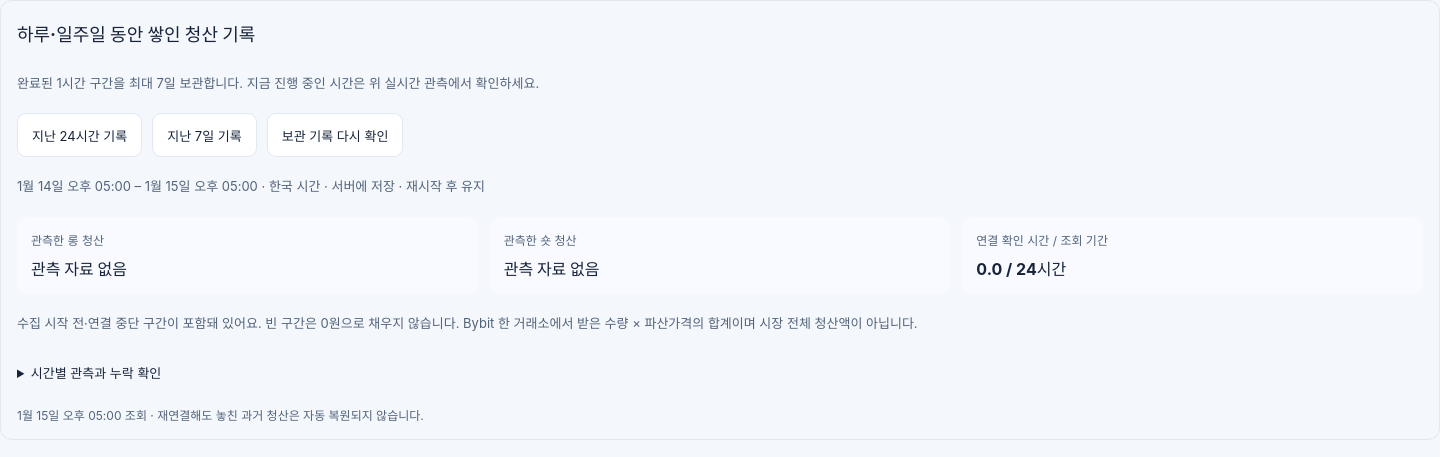
distinguishes absent hours from observed zero and switches period without retaining mismatched totals
Expected: the text "관측 자료 없음" is shown 2 times, [31,259,127,279]; [504,259,600,279]
Click the button "지난 7일 기록": {"x": 204, "y": 135} [152,113,257,157]
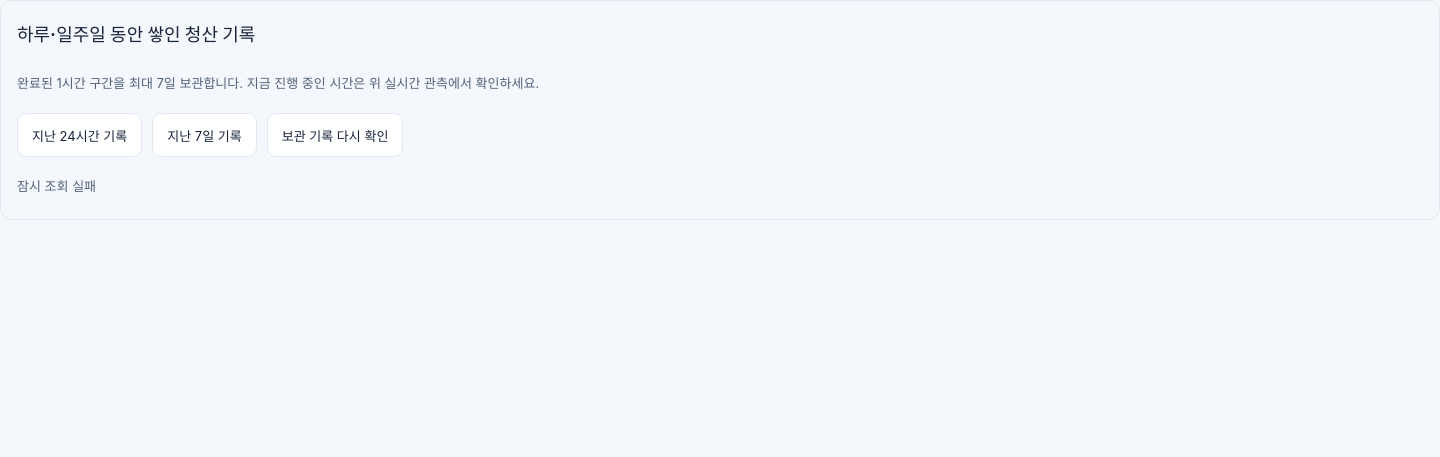
Expected: the message reads "잠시 조회 실패", [17,178,96,194]
Expected: the text "0.0 / 24시간" is gone
